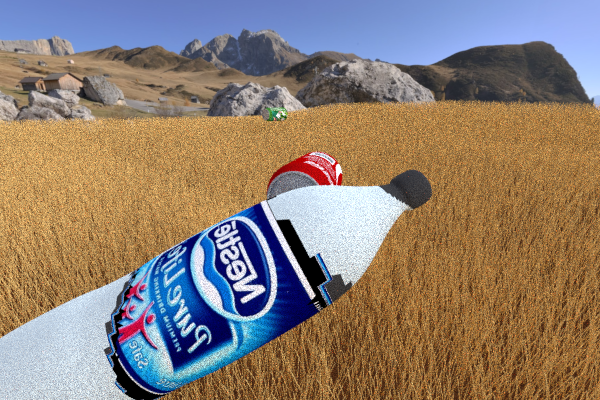Plastic Bottle: (0, 167, 437, 400), (389, 111, 432, 133), (362, 107, 380, 125)
